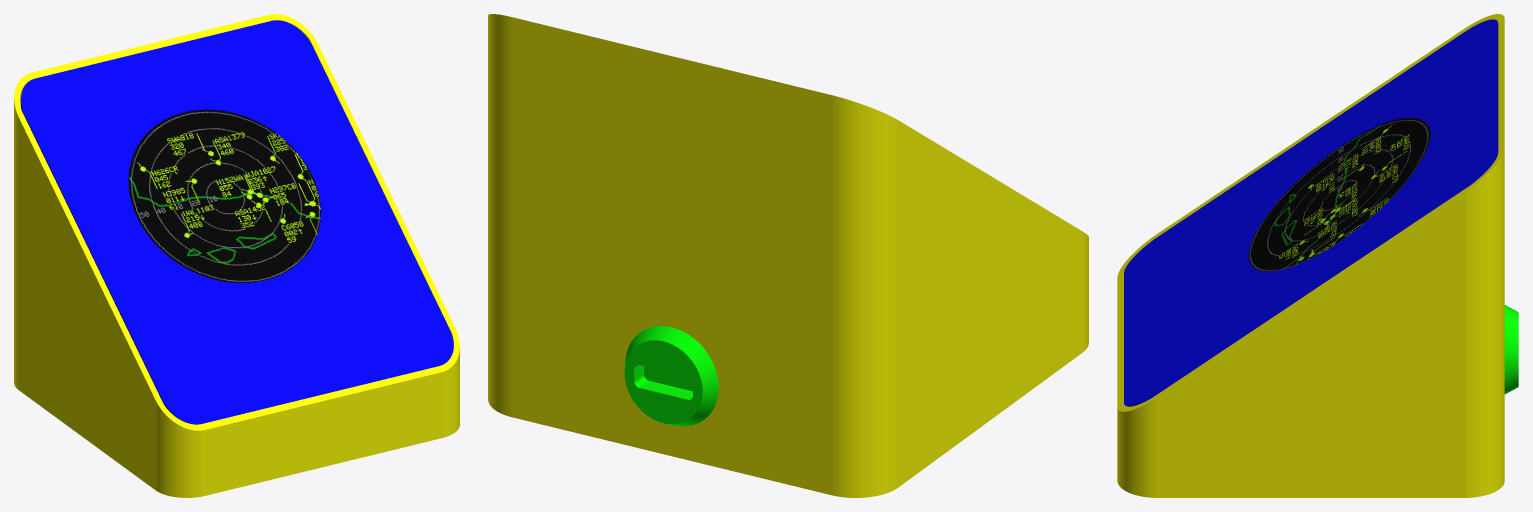
File: radar_v11_I80.glb
3 renders of one model, left to right at view 1: azimuth 30°, elevation 25°; view 2: azimuth 150°, elevation 25°; view 3: azimuth 270°, elevation 25°, orthographic. The views are drawn at different scales.
Visible parts, largest first — view 1: Part 1.002, body, Part 1, Part 1.001; view 2: body, plug; view 3: body, Part 1.002, Part 1, plug.
Boxes of the visible parts, bbox=[...] form: Part 1.002: bbox=[21, 20, 452, 424]; body: bbox=[14, 14, 459, 497]; Part 1: bbox=[128, 110, 320, 282]; Part 1.001: bbox=[127, 29, 453, 357]; body: bbox=[488, 14, 1088, 497]; plug: bbox=[624, 326, 718, 426]; body: bbox=[1117, 14, 1504, 497]; Part 1.002: bbox=[1124, 19, 1498, 406]; Part 1: bbox=[1248, 118, 1430, 271]; plug: bbox=[1504, 305, 1518, 394].
Size of the model in its own units: 0.0603 by 0.065 by 0.0625.
Materials: 7 (1 with a texture image).
